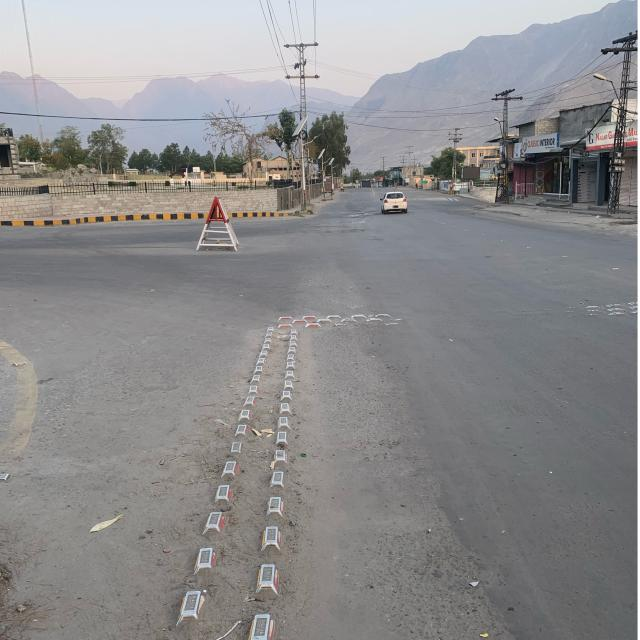Left-Turn: (0, 222, 468, 443)
Right-Turn: (454, 190, 499, 233)
straight: (350, 181, 420, 274)
